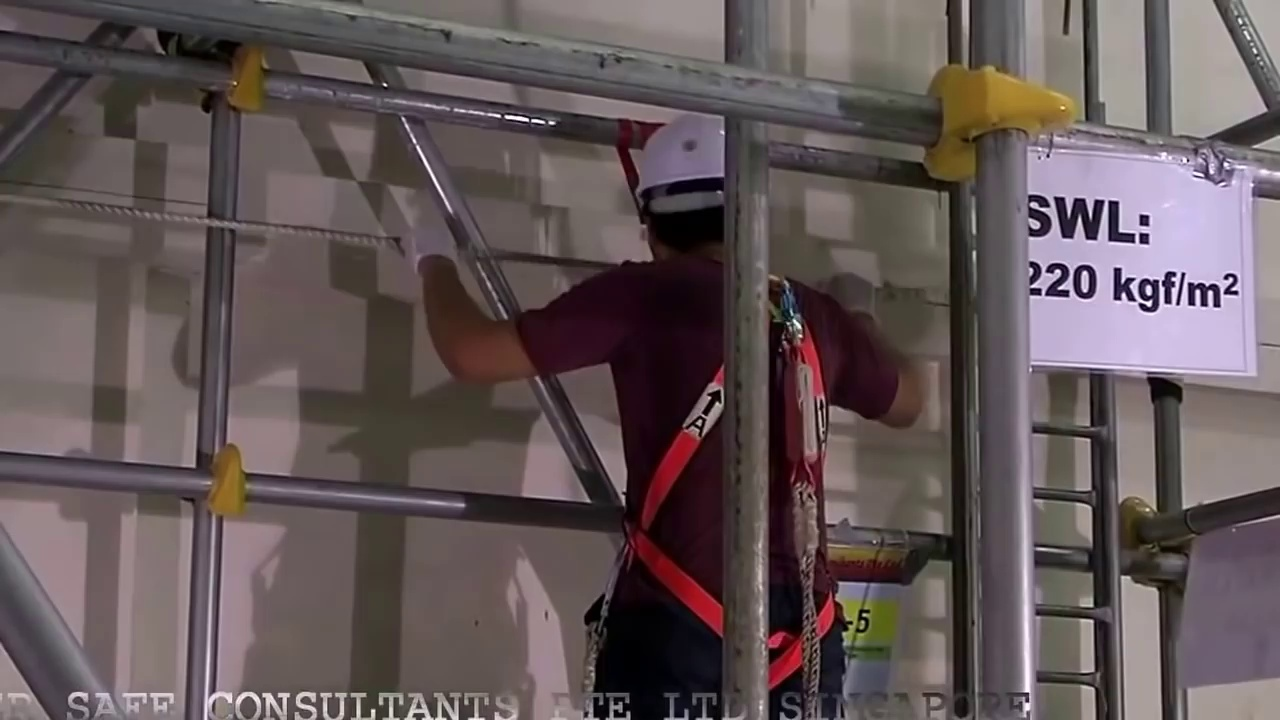harness: (643, 289, 846, 674)
helmet: (641, 120, 726, 184)
